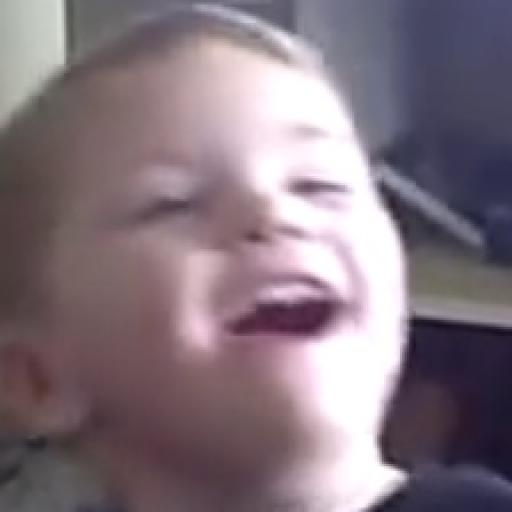Autism: (0, 0, 444, 478)
